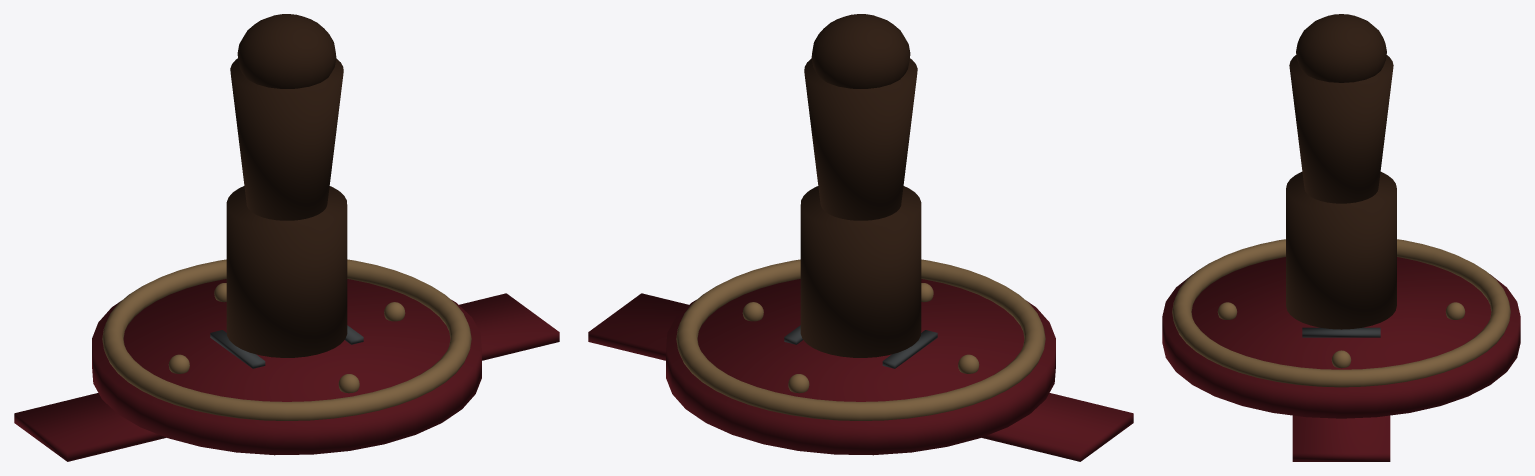
Rendered from item_seal.glb.
3 views of the same model, side by side, from view 1: azimuth 30°, elevation 25°; view 2: azimuth 150°, elevation 25°; view 3: azimuth 270°, elevation 25° (orthographic). The views are drawn at different scales.
Parts seen in each view (by area): view 1: Seal_WaxDisk, Seal_WoodHandleBase, Seal_BrassSealRing, Seal_WoodHandle, Seal_RedPaperStrip, Seal_WoodKnob, Seaf_Rune_0; view 2: Seal_WaxDisk, Seal_WoodHandleBase, Seal_BrassSealRing, Seal_WoodHandle, Seal_RedPaperStrip, Seal_WoodKnob, Seaf_Rune_0; view 3: Seal_WaxDisk, Seal_WoodHandleBase, Seal_BrassSealRing, Seal_WoodHandle, Seal_WoodKnob, Seal_RedPaperStrip, Seaf_Rune_2.
Boxes of the visible parts, x1,y1,x2,y2 form: Seal_WaxDisk: (92,279,481,455); Seal_WoodHandleBase: (226,186,347,357); Seal_BrassSealRing: (102,259,471,420); Seal_WoodHandle: (230,58,343,220); Seal_RedPaperStrip: (14,293,559,461); Seal_WoodKnob: (237,14,336,88); Seaf_Rune_0: (210,330,265,368); Seal_WaxDisk: (666,279,1055,455); Seal_WoodHandleBase: (800,186,921,357); Seal_BrassSealRing: (676,259,1045,420); Seal_WoodHandle: (804,58,917,220); Seal_RedPaperStrip: (588,293,1133,461); Seal_WoodKnob: (811,14,910,88); Seaf_Rune_0: (882,330,937,368); Seal_WaxDisk: (1162,257,1520,418); Seal_WoodHandleBase: (1286,172,1396,329); Seal_BrassSealRing: (1172,239,1510,387); Seal_WoodHandle: (1289,55,1393,203); Seal_WoodKnob: (1296,14,1386,82); Seal_RedPaperStrip: (1292,415,1390,461); Seaf_Rune_2: (1302,327,1380,337).
Bounding box in the file's own units: 0.16 × 0.1127 × 0.11.
